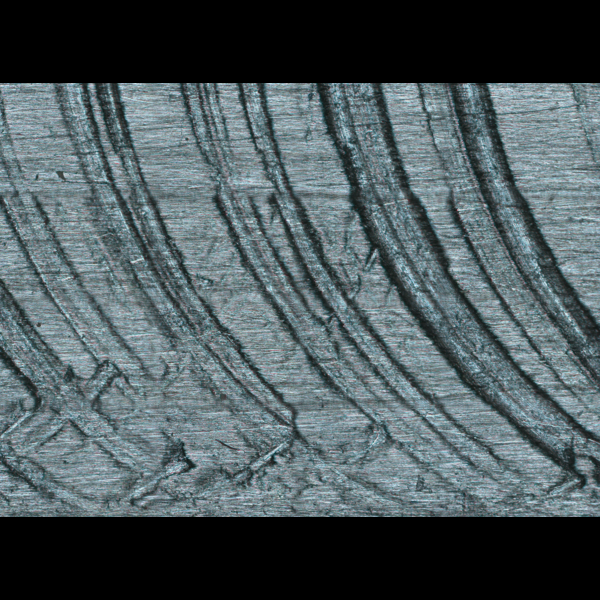d: (0, 88, 595, 516)
